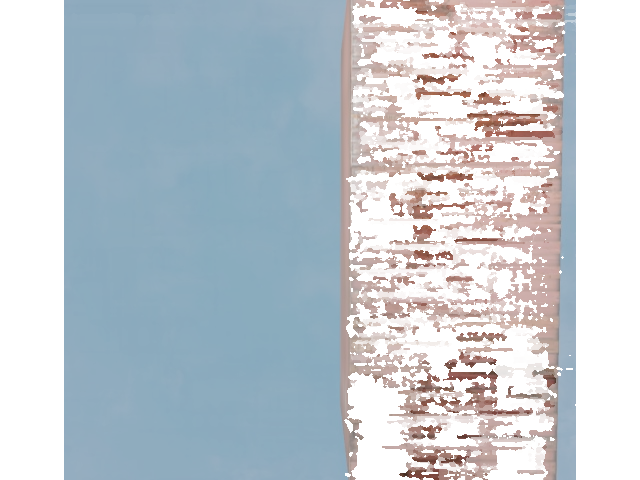container4: (341, 0, 565, 480)
